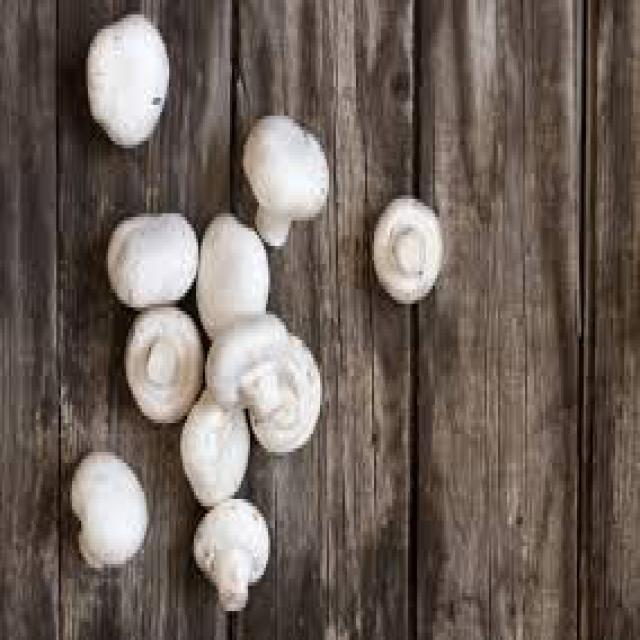Agaricus bisporus: (246, 117, 327, 250), (89, 14, 167, 147), (71, 447, 146, 567), (201, 214, 270, 337), (129, 305, 196, 428), (197, 505, 273, 611), (107, 207, 192, 298), (371, 195, 441, 303), (183, 393, 249, 501), (263, 338, 322, 456), (212, 325, 287, 412)
